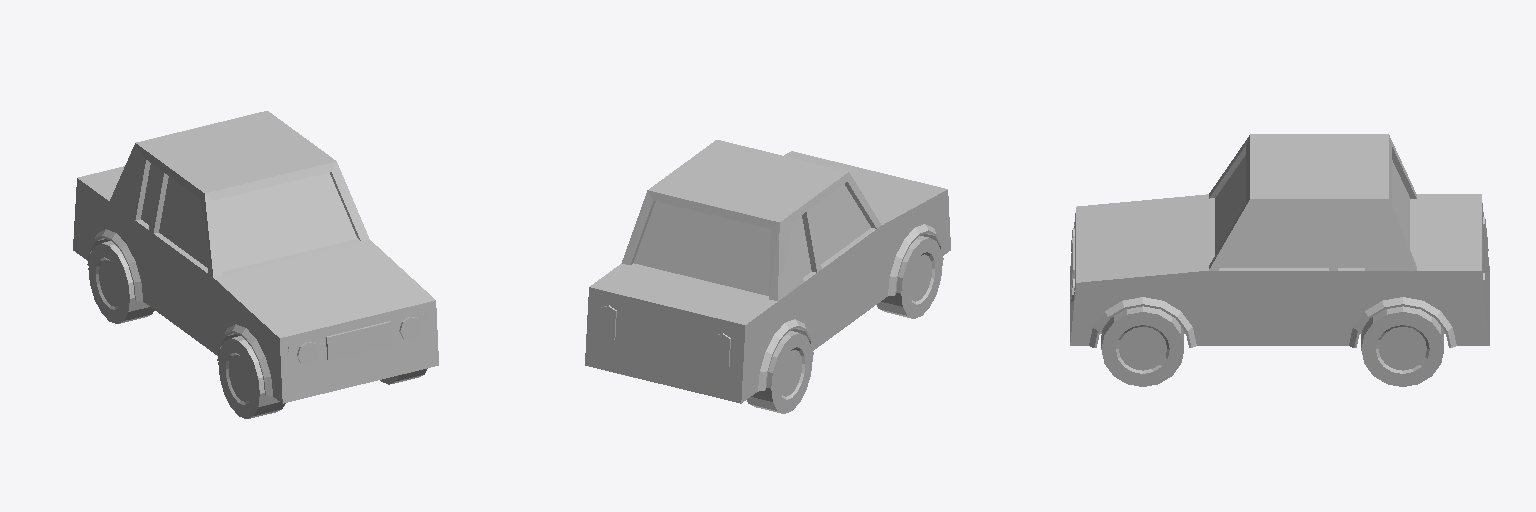
The model's file is car-normal-violet.obj.
The picture shows the model from 3 angles: view 1: azimuth 30°, elevation 25°; view 2: azimuth 150°, elevation 25°; view 3: azimuth 270°, elevation 25°; orthographic projection.
Parts seen in each view (by area): view 1: car-normal-violet_Cube.647; view 2: car-normal-violet_Cube.647; view 3: car-normal-violet_Cube.647.
Boxes of the visible parts, x1=… form: car-normal-violet_Cube.647: x1=73, y1=111, x2=438, y2=418; car-normal-violet_Cube.647: x1=585, y1=140, x2=950, y2=413; car-normal-violet_Cube.647: x1=1070, y1=134, x2=1489, y2=386.
Size of the model in its own units: 0.854 by 0.855 by 1.82.